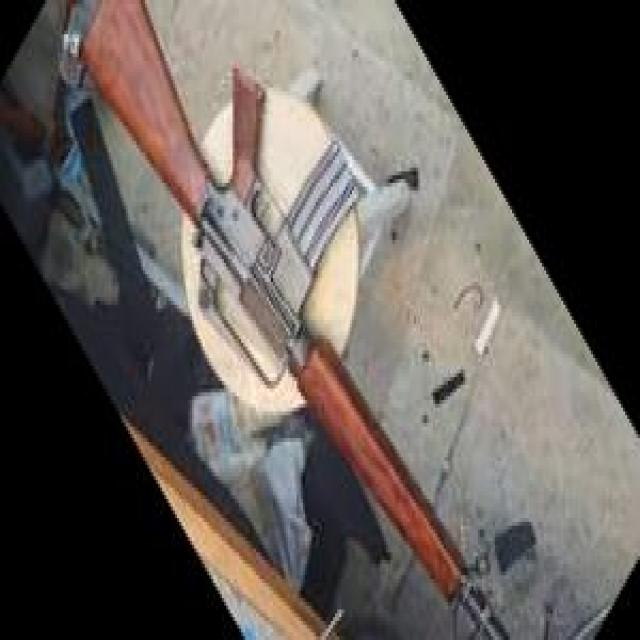heavy-weapon: (58, 0, 512, 640)
